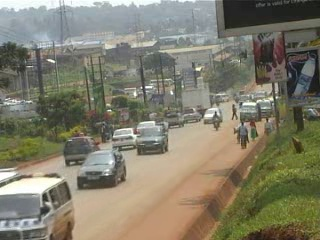Car: (76, 148, 128, 191), (61, 135, 103, 166), (134, 124, 171, 156), (109, 125, 140, 152), (133, 118, 158, 137), (201, 104, 223, 125), (181, 106, 202, 123)
Motorcycle: (209, 112, 221, 131)
